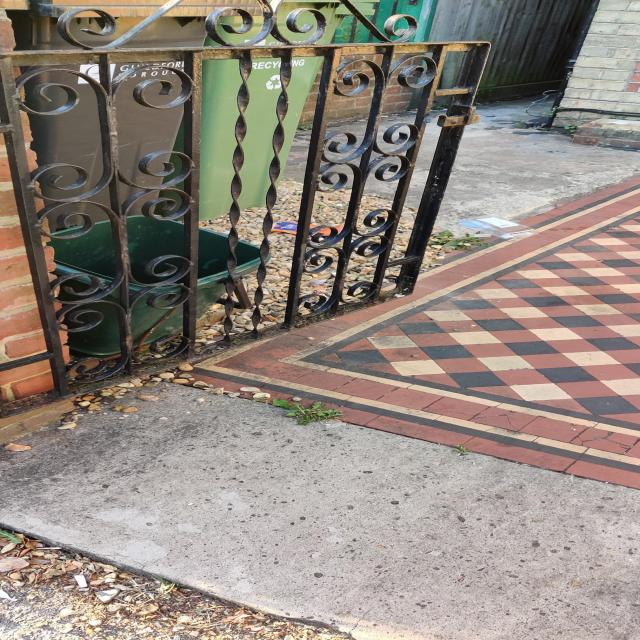litter: (458, 216, 538, 238), (270, 223, 340, 234)
